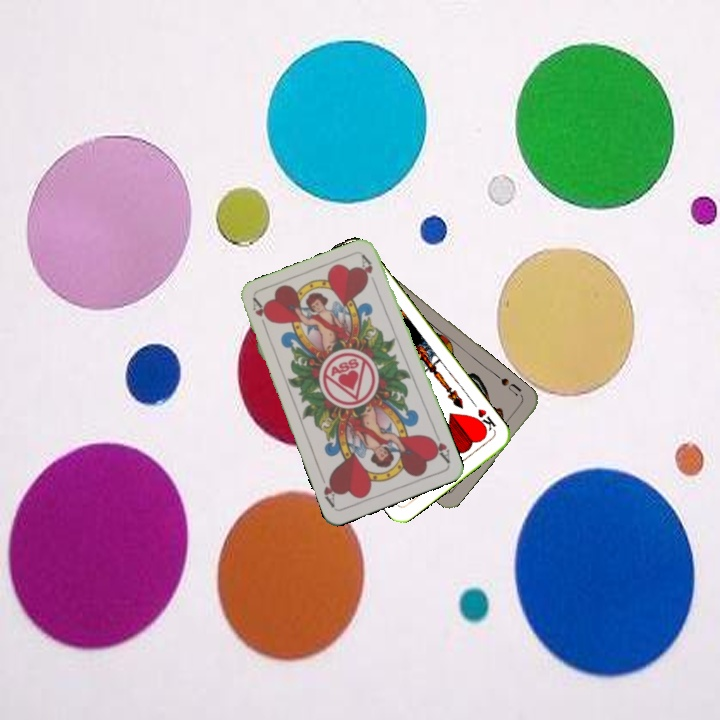HA: (426, 427, 452, 466), (248, 295, 273, 334)
HK: (471, 404, 499, 436)
SU: (497, 374, 526, 401)
